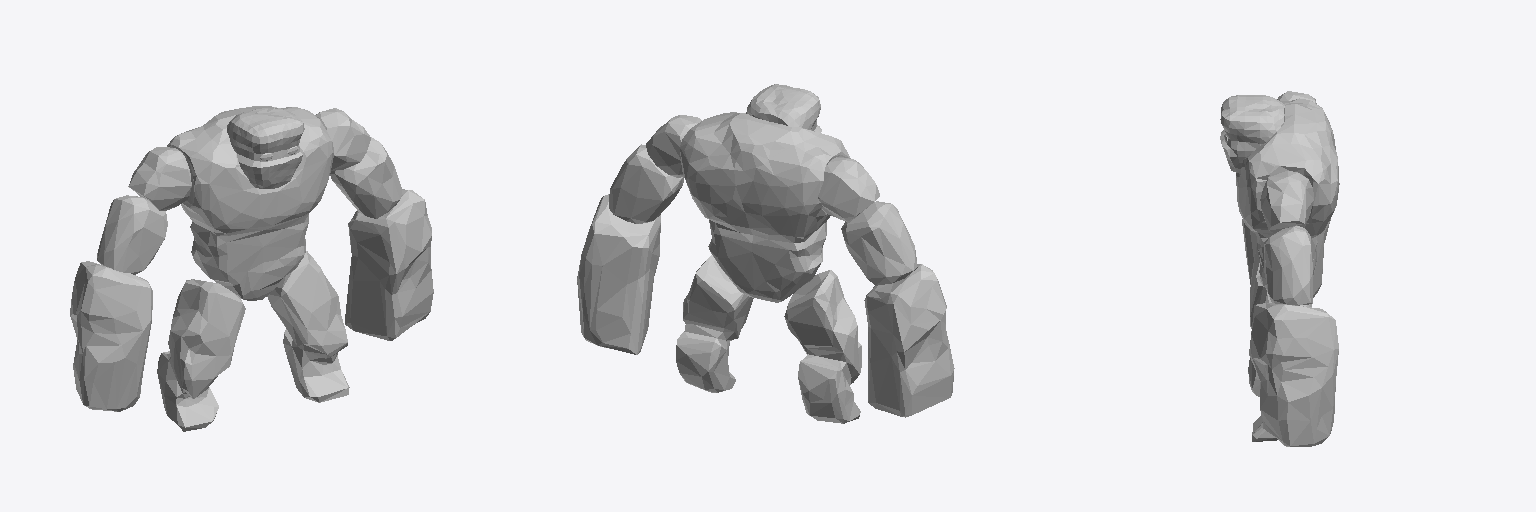
File: golem.obj
The picture shows the model from 3 angles: view 1: azimuth 30°, elevation 25°; view 2: azimuth 150°, elevation 25°; view 3: azimuth 270°, elevation 25°; orthographic projection.
Parts seen in each view (by area): view 1: Stone; view 2: Stone; view 3: Stone.
Part boxes in pixels (left/top/right/bottom): Stone: left=70, top=106, right=433, bottom=431; Stone: left=577, top=84, right=954, bottom=423; Stone: left=1220, top=91, right=1339, bottom=446.
Bounding box in the file's own units: 7.03 × 5.66 × 2.02.